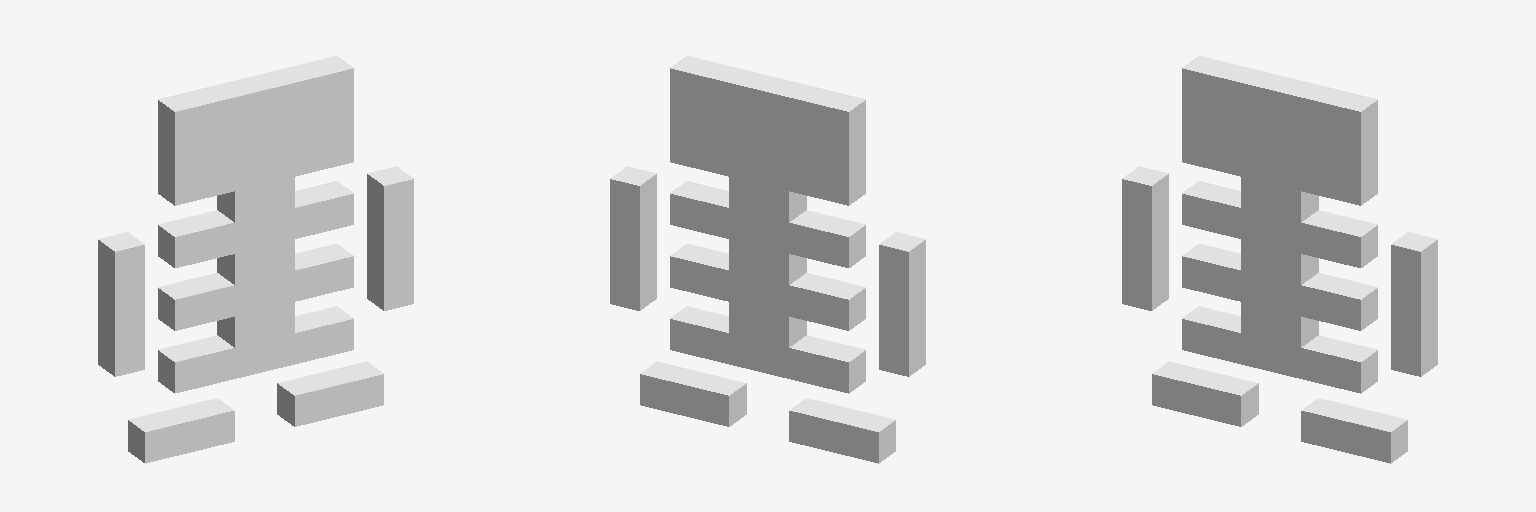
Rendered from Skeleton_FrontDie.obj.
3 views of the same model, side by side, from view 1: azimuth 30°, elevation 25°; view 2: azimuth 150°, elevation 25°; view 3: azimuth 330°, elevation 25° (orthographic).
Visible parts, largest first — view 1: object 1; view 2: object 1; view 3: object 1.
Part boxes in pixels (bbox=[...]): object 1: bbox=[98, 56, 413, 463]; object 1: bbox=[610, 56, 925, 463]; object 1: bbox=[1122, 56, 1437, 463].
Size of the model in its own units: 1 by 1.1 by 0.1.